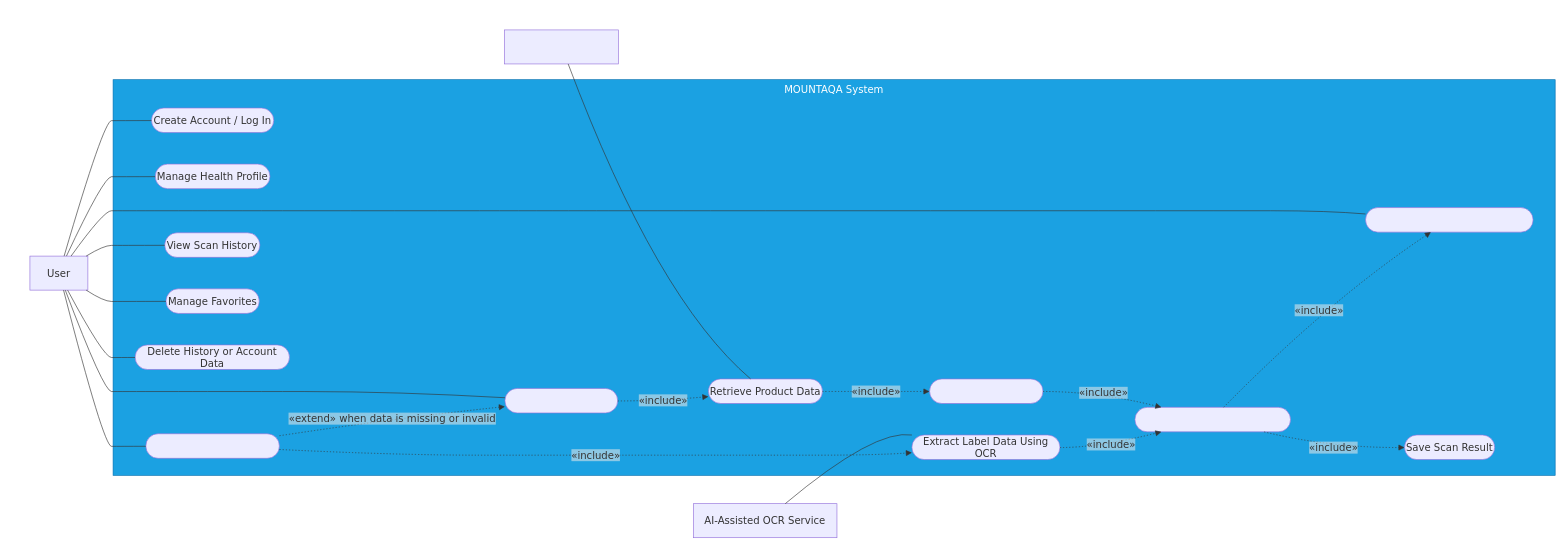
Image size: 1566x549. Some labels were removed from this diagram. The centre of each missing label's shape, as x and y in pixels:
Analyze Product Against Profile: pixel 1212 419
Capture Back-Label Image: pixel 212 445
Food Product API: pixel 561 46
Generate Verdict and Explanation: pixel 1449 219
Scan Product Barcode: pixel 561 400
Validate Product Data: pixel 986 391
